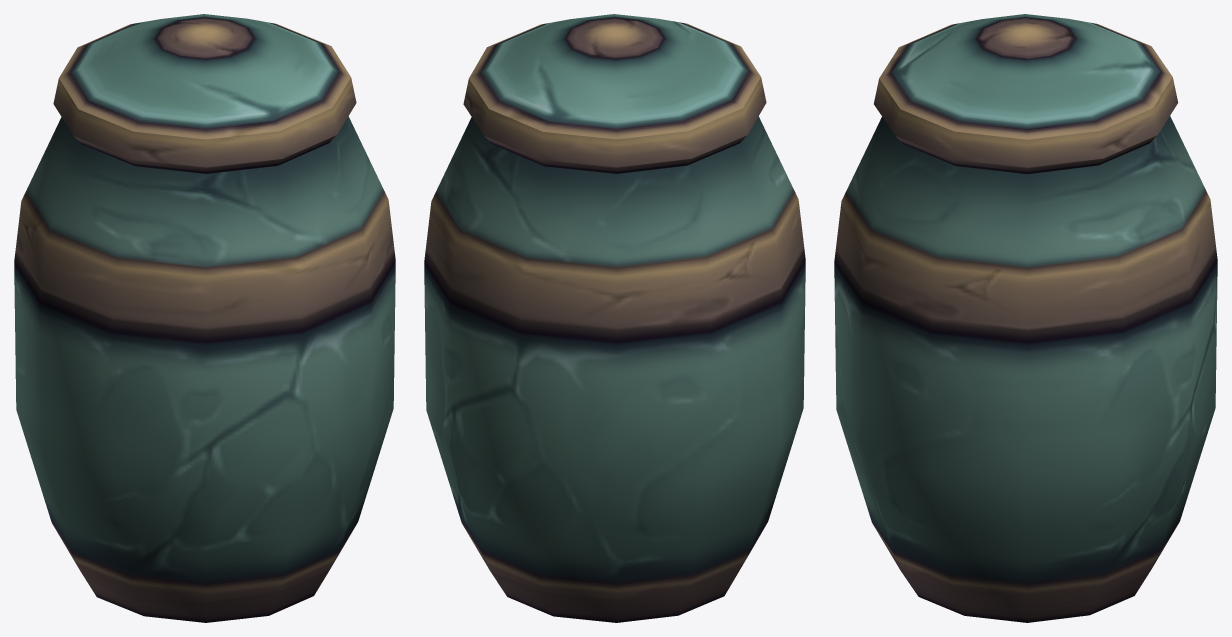
File: urn_01.fbx
3 renders of one model, left to right at view 1: azimuth 30°, elevation 25°; view 2: azimuth 150°, elevation 25°; view 3: azimuth 270°, elevation 25°, orthographic.
Parts seen in each view (by area): view 1: urn_01; view 2: urn_01; view 3: urn_01.
Part boxes in pixels (box(x1,y1,x2,y2)): urn_01: box(14, 14, 395, 622); urn_01: box(424, 14, 805, 622); urn_01: box(834, 14, 1217, 622).
Bounding box in the file's own units: 8.7 × 13.51 × 8.7.
